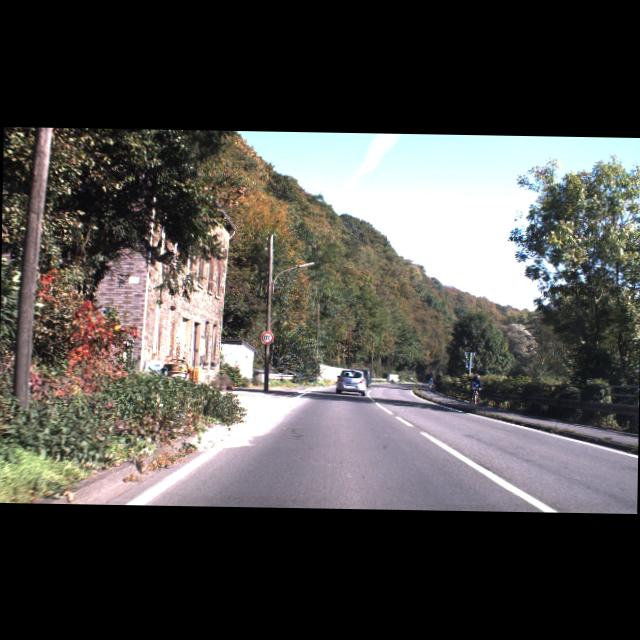prohibitory: (261, 331, 274, 344)
